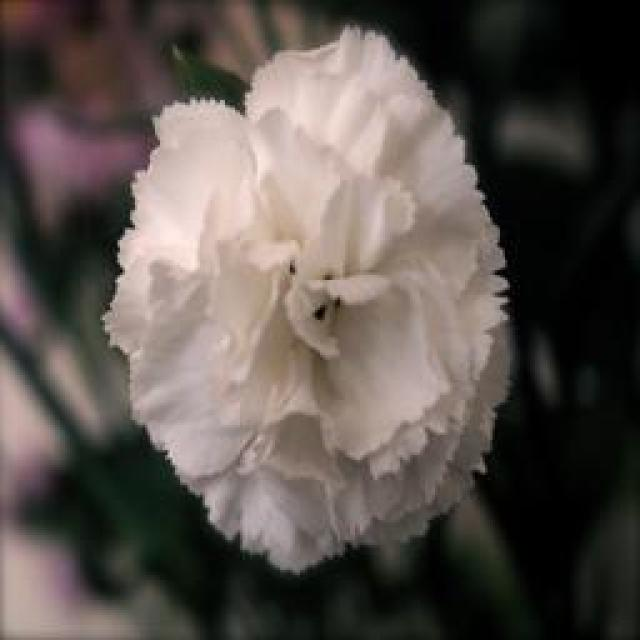carnation: (98, 27, 519, 571)
